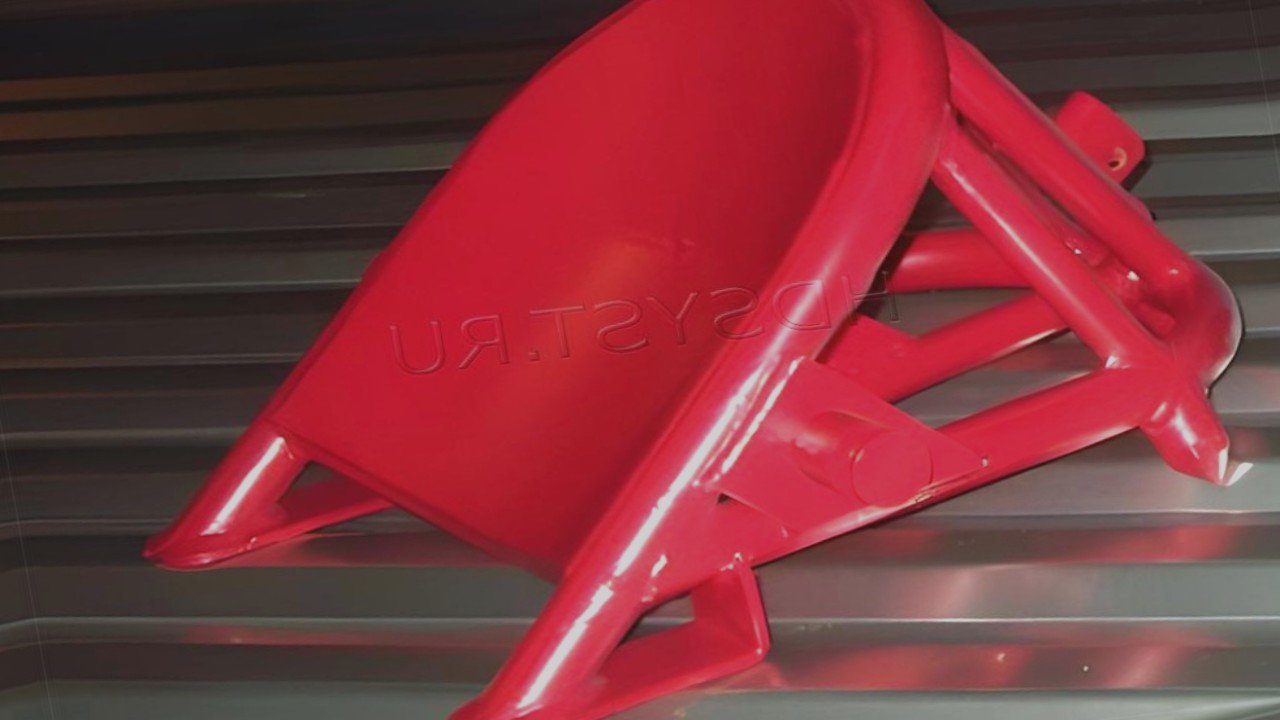chock: (36, 0, 1280, 720)
